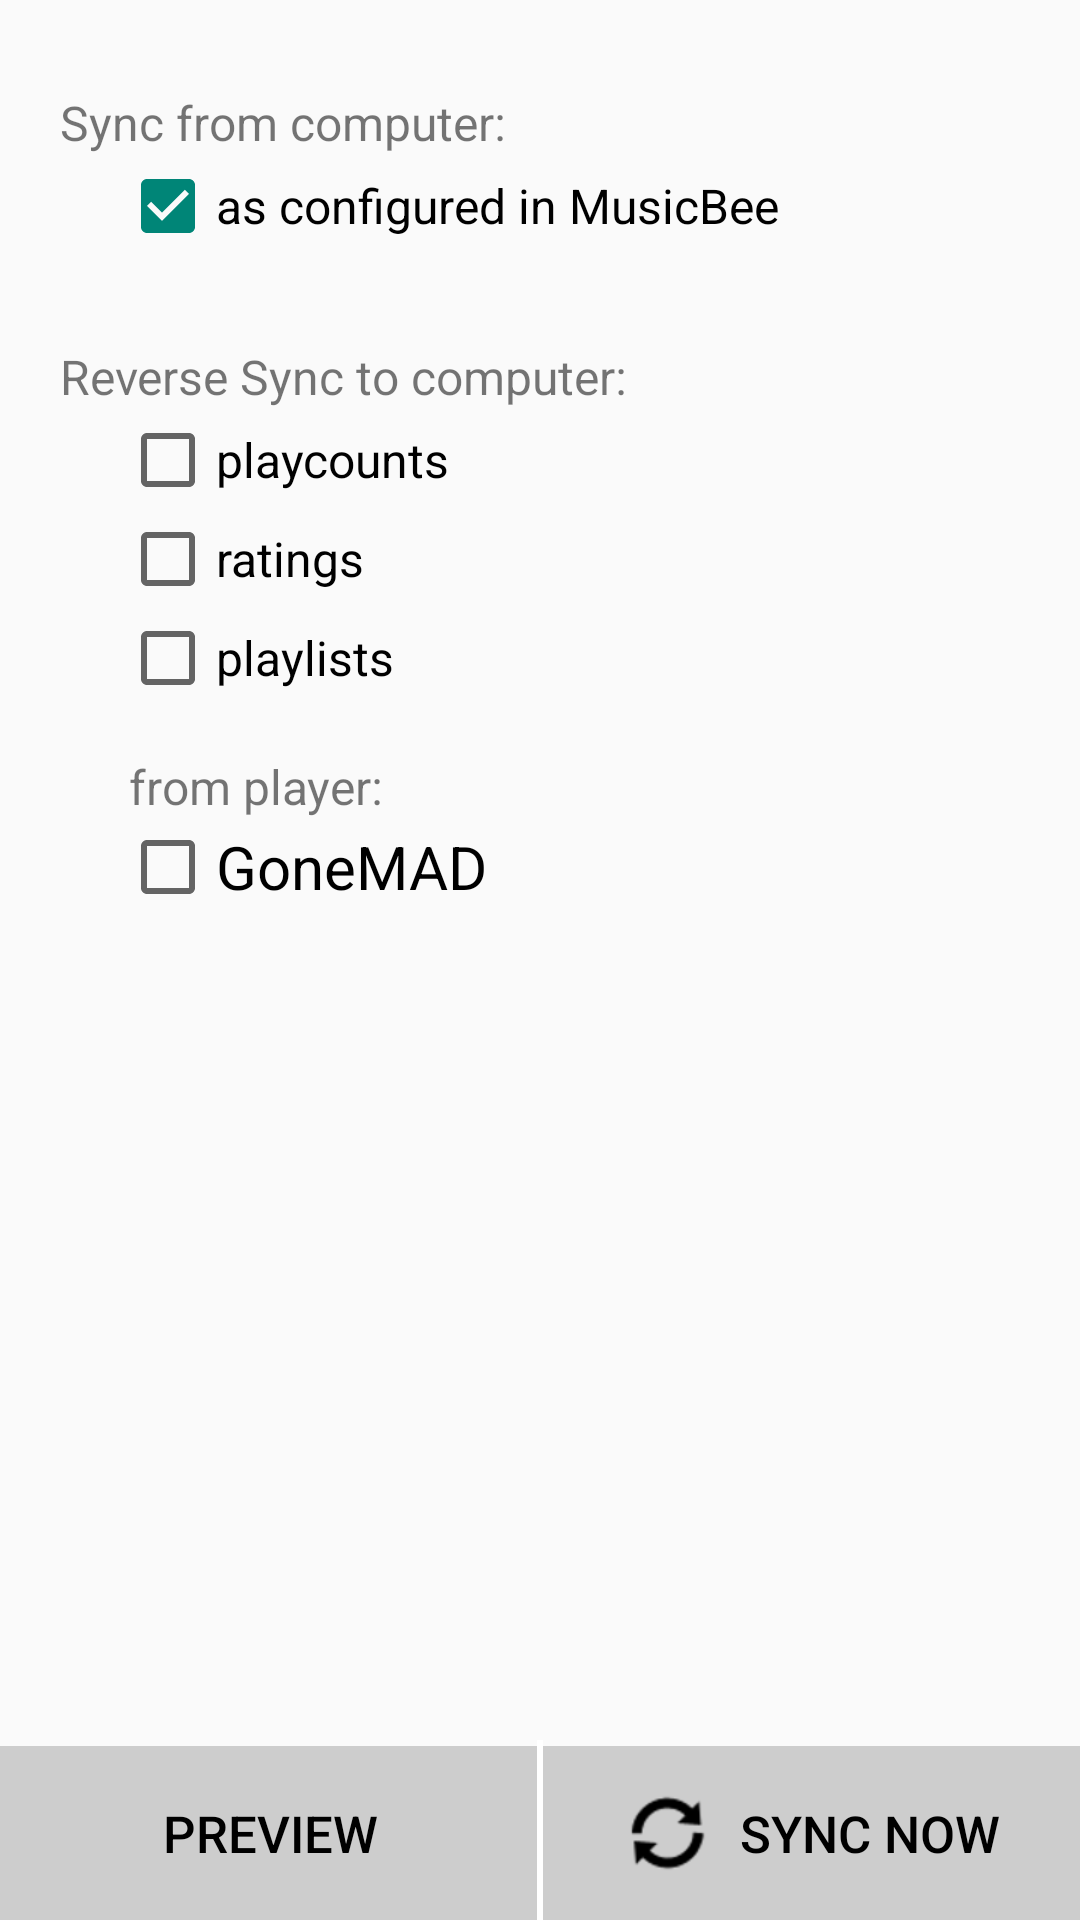

Named icons in this screenshot (1080 x 1920) and their centers, [x,y]:
popup sync: [668,1833]
